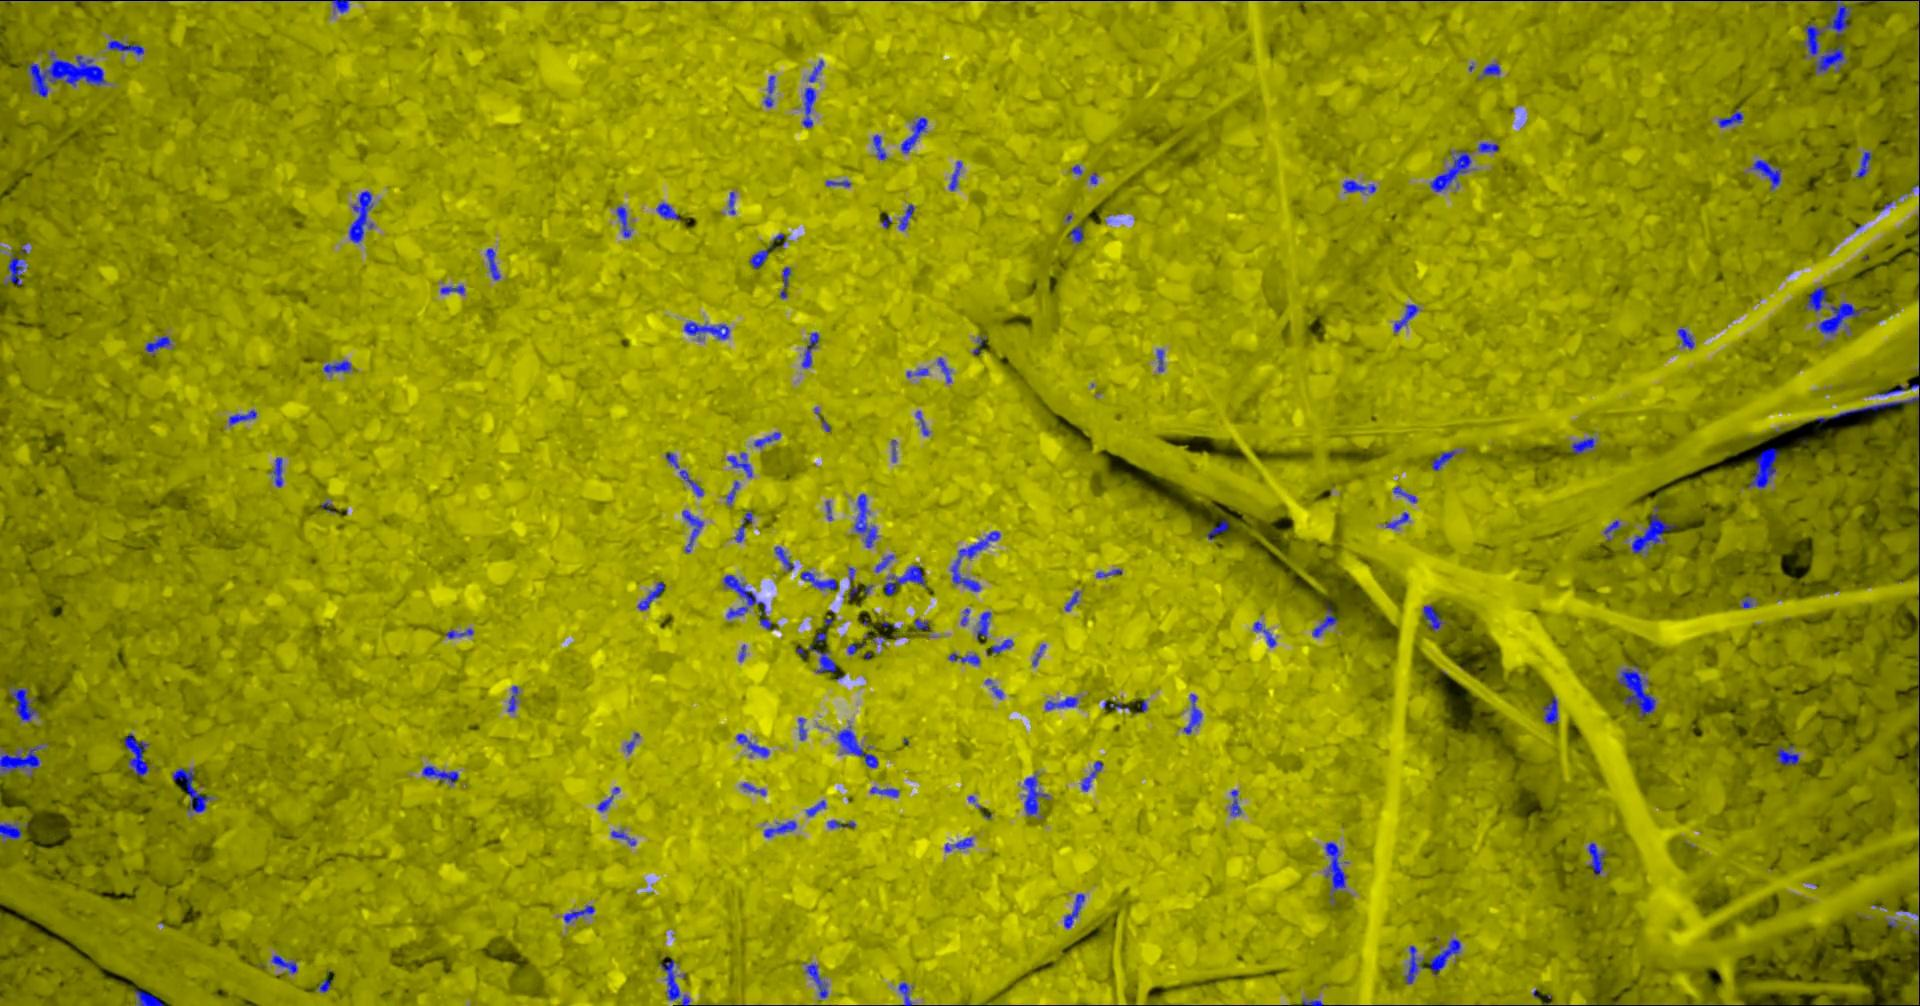ant: (950, 530, 1001, 591), (1815, 395, 1919, 422), (723, 574, 771, 629), (1630, 506, 1675, 553), (1617, 664, 1655, 716), (171, 767, 212, 812), (836, 725, 877, 767), (1429, 150, 1470, 191), (1818, 301, 1865, 335), (659, 959, 690, 1005), (1324, 841, 1346, 901), (348, 191, 372, 243), (855, 493, 877, 547), (884, 564, 924, 594), (1747, 447, 1778, 486), (1429, 937, 1460, 974), (0, 746, 39, 775), (795, 644, 836, 672), (8, 685, 38, 721), (123, 733, 149, 776), (1023, 774, 1048, 815), (900, 117, 927, 152), (1750, 159, 1780, 189), (681, 511, 703, 551), (683, 321, 729, 340), (1310, 602, 1336, 636), (735, 733, 770, 756), (637, 580, 664, 610), (1404, 945, 1425, 983), (1063, 893, 1084, 929), (805, 963, 827, 997), (1393, 304, 1418, 332), (1183, 694, 1201, 733), (1079, 760, 1102, 790), (422, 765, 458, 782), (679, 469, 703, 495), (800, 572, 836, 589), (1587, 842, 1606, 875), (801, 332, 818, 368), (726, 452, 750, 476), (734, 511, 752, 542), (563, 904, 594, 922), (107, 39, 143, 55), (1804, 286, 1826, 311), (1253, 621, 1275, 647), (763, 821, 796, 837), (1431, 450, 1458, 470), (803, 86, 815, 127), (1422, 605, 1443, 630), (1874, 384, 1919, 395), (8, 254, 24, 285), (615, 206, 630, 238), (485, 248, 500, 279), (897, 203, 914, 230), (1775, 744, 1798, 765), (1044, 696, 1077, 710), (775, 546, 794, 570), (270, 955, 296, 973), (133, 989, 163, 1005), (1717, 111, 1743, 127), (229, 409, 257, 424), (1542, 695, 1557, 723), (1206, 520, 1228, 539), (145, 335, 171, 351), (753, 432, 780, 447), (1571, 436, 1594, 453), (943, 837, 971, 851), (1855, 151, 1870, 177), (949, 160, 961, 191), (949, 652, 979, 664), (0, 822, 22, 840), (1342, 180, 1375, 192), (657, 202, 679, 218), (778, 265, 790, 298), (1385, 512, 1408, 528), (937, 357, 951, 384), (977, 611, 990, 638), (808, 58, 823, 83), (1392, 486, 1416, 502), (611, 829, 635, 845), (763, 75, 775, 107), (749, 249, 768, 268), (872, 133, 886, 159), (323, 359, 350, 372), (990, 638, 1013, 653), (898, 982, 913, 1005), (875, 554, 894, 572), (1677, 328, 1694, 348), (1603, 520, 1619, 540), (985, 678, 1002, 699), (805, 799, 825, 815), (1064, 591, 1079, 611), (916, 410, 928, 434), (507, 685, 518, 711), (625, 732, 639, 753), (272, 457, 282, 486), (870, 786, 899, 796), (742, 782, 764, 795), (444, 627, 472, 638), (726, 480, 738, 504), (596, 794, 612, 810), (1230, 789, 1241, 815), (1481, 64, 1500, 77), (1069, 225, 1083, 243), (1095, 568, 1121, 577), (665, 451, 679, 467), (1103, 700, 1129, 709), (1477, 142, 1498, 152), (331, 0, 350, 11), (439, 285, 463, 293), (316, 978, 331, 992), (847, 641, 863, 654), (728, 191, 735, 213), (797, 716, 805, 739), (1156, 349, 1163, 371), (905, 368, 927, 376), (913, 619, 928, 629), (825, 180, 850, 187), (1302, 998, 1322, 1005)
